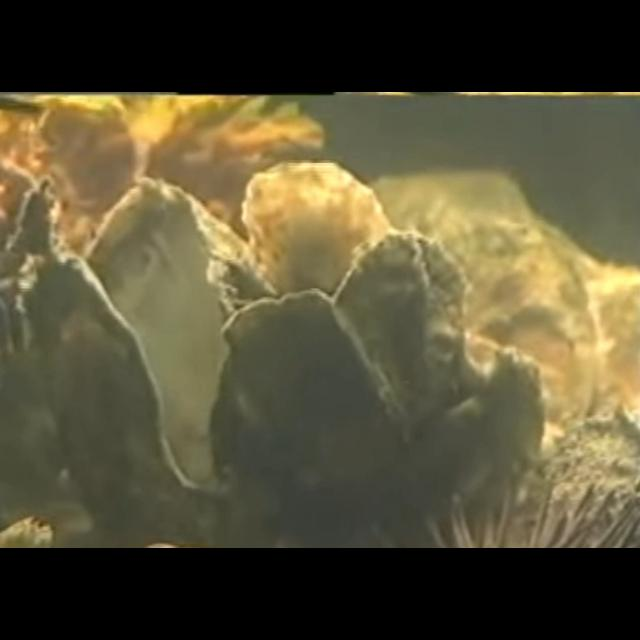Oyster-Closed: (208, 288, 410, 548), (331, 229, 469, 441), (408, 346, 546, 548), (242, 162, 390, 304), (514, 414, 640, 548)
Oyster-Open: (20, 180, 278, 548)
